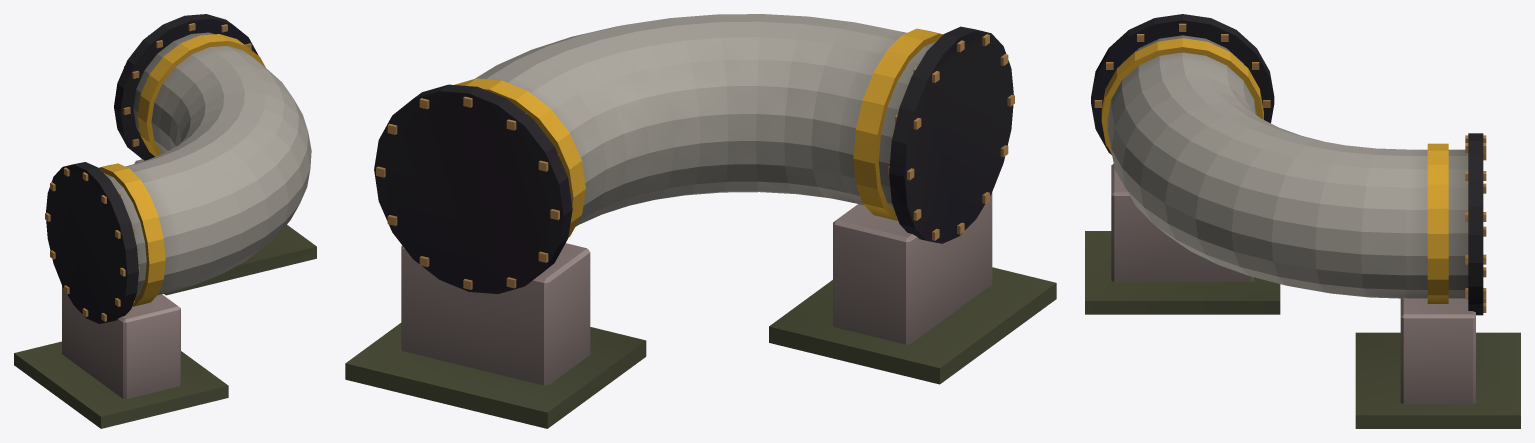
Rendered from kit.dispersal-pipe-elbow.glb.
3 renders of one model, left to right at view 1: azimuth 30°, elevation 25°; view 2: azimuth 150°, elevation 25°; view 3: azimuth 270°, elevation 25°, orthographic. The views are drawn at different scales.
Visible parts, largest first — view 1: body; view 2: body; view 3: body.
Boxes of the visible parts, box(x1,y1,x2,y2) form: body: box(14, 14, 316, 428); body: box(345, 14, 1056, 428); body: box(1085, 14, 1520, 428).
Size of the model in its own units: 5.8 by 3.62 by 5.8.
